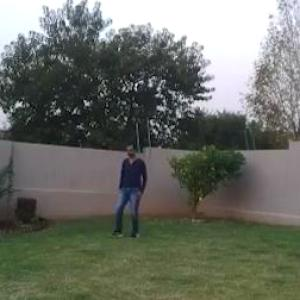follow: (116, 138, 148, 239)
